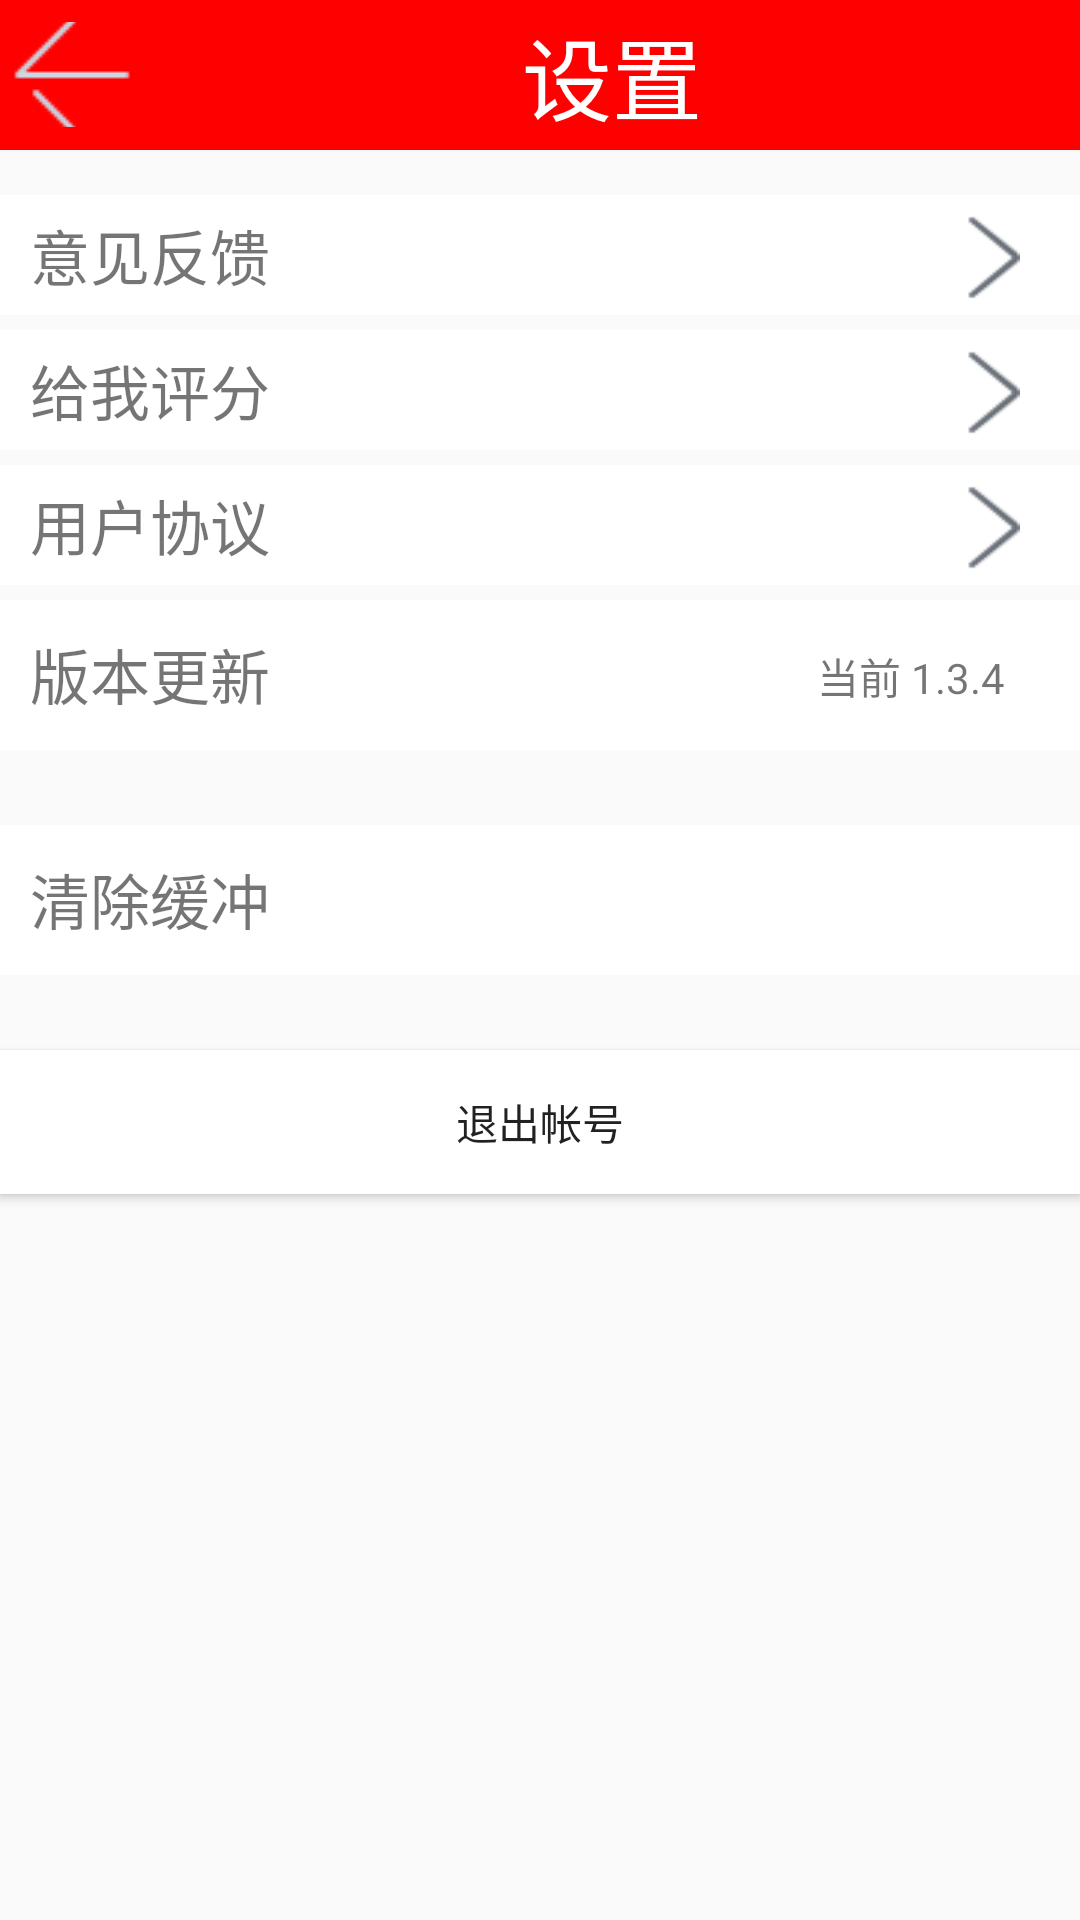

Locate icon controls on the screen. Image size 1080×1920, boxes as (x1, y1, x2, y2).
back on: (14, 22, 130, 127)
right arrow: (968, 217, 1020, 298), (968, 352, 1020, 433), (968, 487, 1020, 568)
